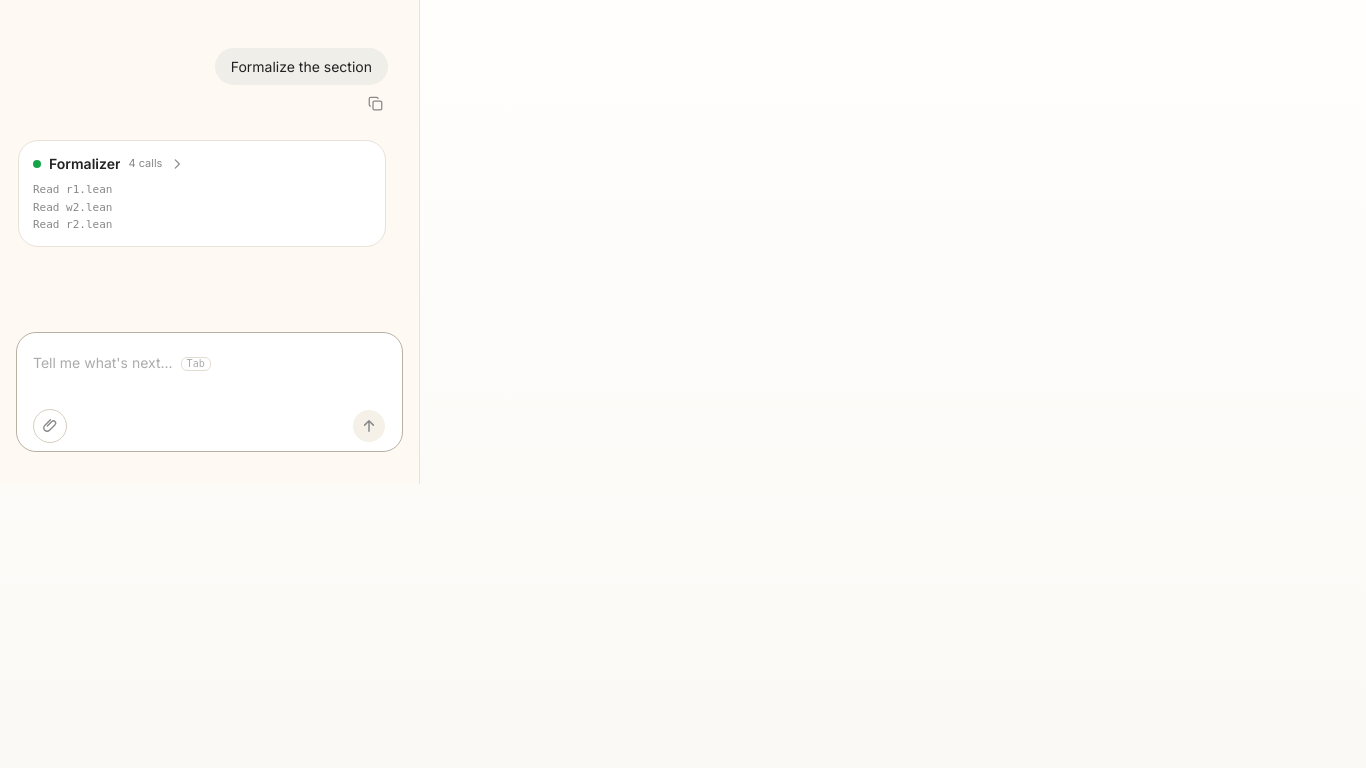
Test case: ChatPanel › renders one node per specialist and opens its whole exchange
Opening it hydrates every run in the exchange and shows the newest turn.
What coordinates should you click on to do the following:
click the button with class "is-specialist"
I would click on:
 (60, 164)
Its box is top-left (18, 140), bottom-right (386, 246).
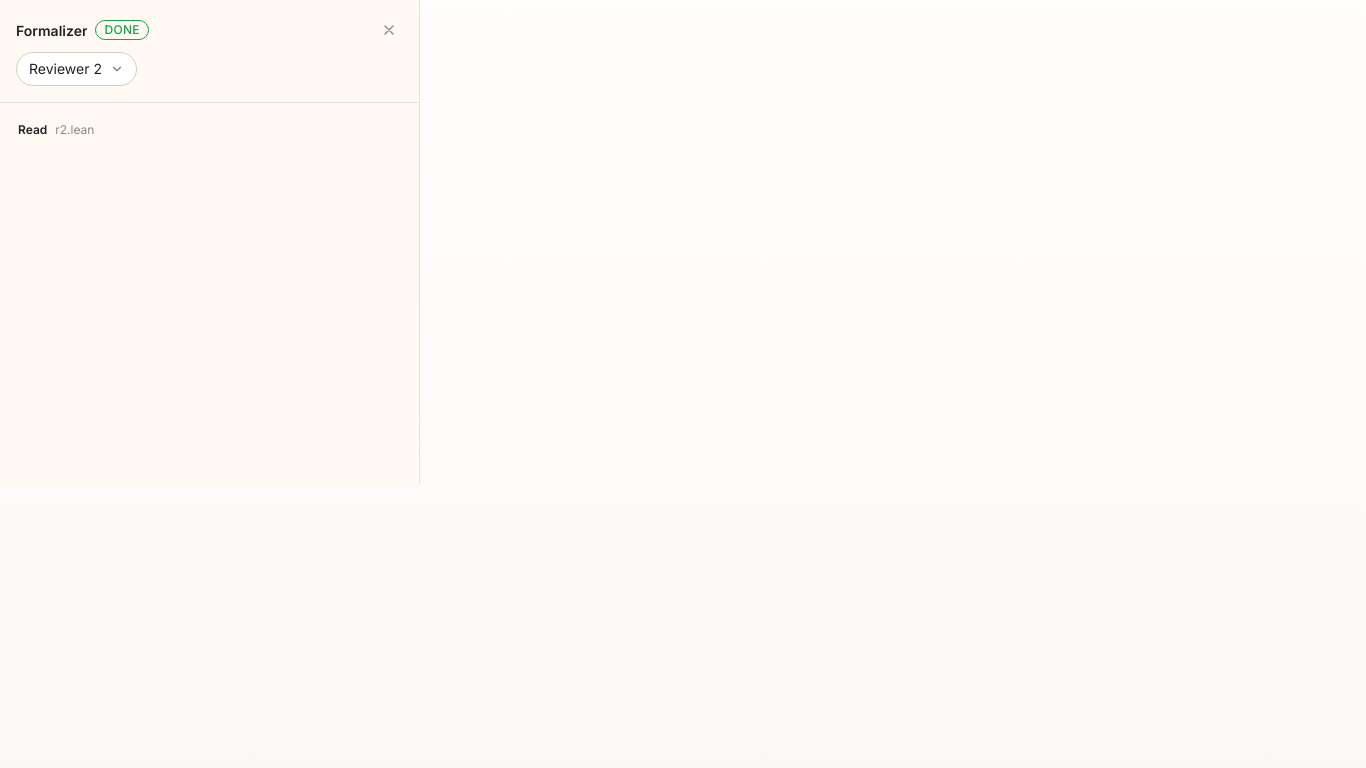
Expected: the text with class "subagent-expanded-title" reads "Formalizer", top-left (16, 22), bottom-right (88, 38)
Expected: the button with aria-label "Iteration: Reviewer 2" is shown, top-left (16, 52), bottom-right (137, 86)
Expected: the element with class "subagent-expanded-timeline" shows "r2.lean", top-left (55, 122), bottom-right (94, 137)
